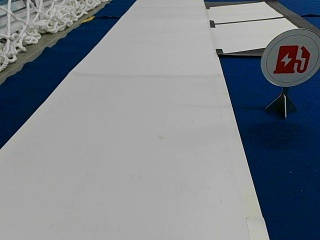battery: (260, 28, 318, 88)
